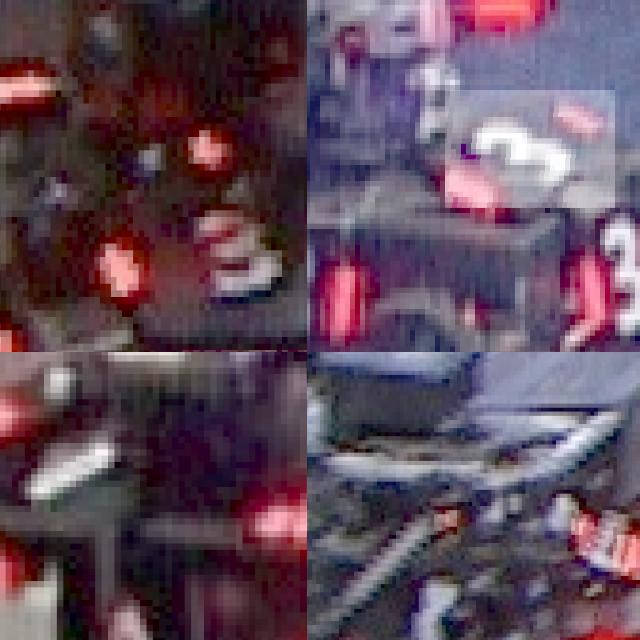R3: (445, 90, 615, 208), (585, 207, 640, 341), (307, 223, 360, 351)
